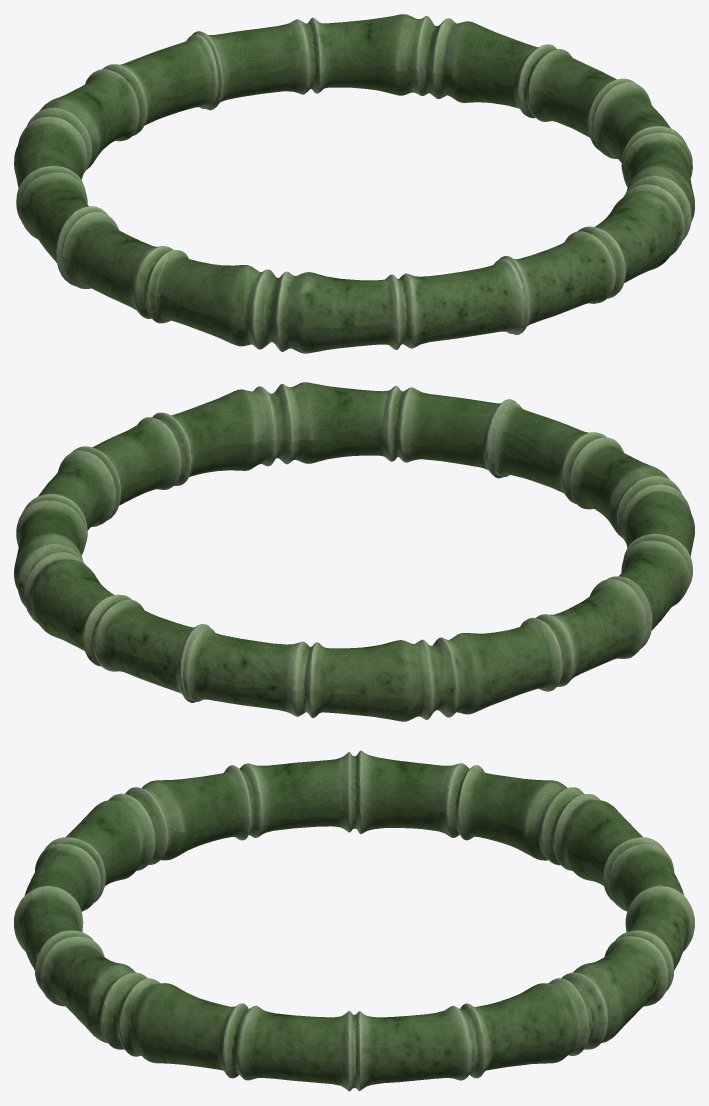
File: ring_jade_bamboo.glb
3 views of the same model, one above another, from view 1: azimuth 30°, elevation 25°; view 2: azimuth 150°, elevation 25°; view 3: azimuth 270°, elevation 25° (orthographic).
Size of the model in its own units: 1.9 by 0.2396 by 1.9.
Materials: 1 (1 with a texture image).
